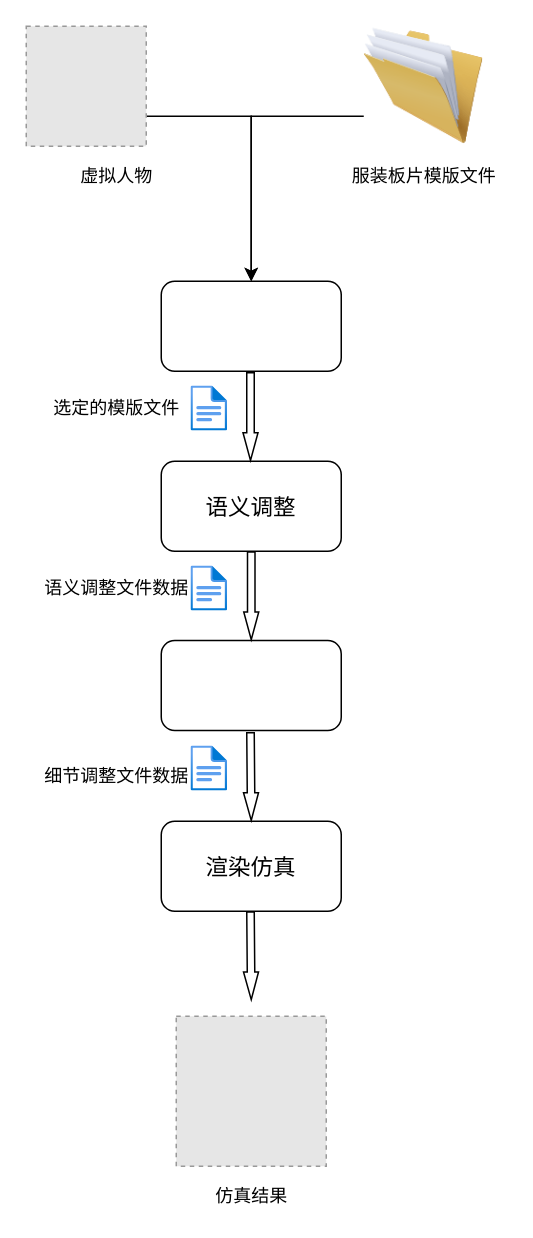
Some shapes in this 533 by 1238 pixel diagram are drawn without their labels. Grey dashed boxes stand in for pictures. Each missing label, with the box of its shape:
服装类型选择: (160, 280, 341, 371)
细节调整: (160, 639, 341, 730)
